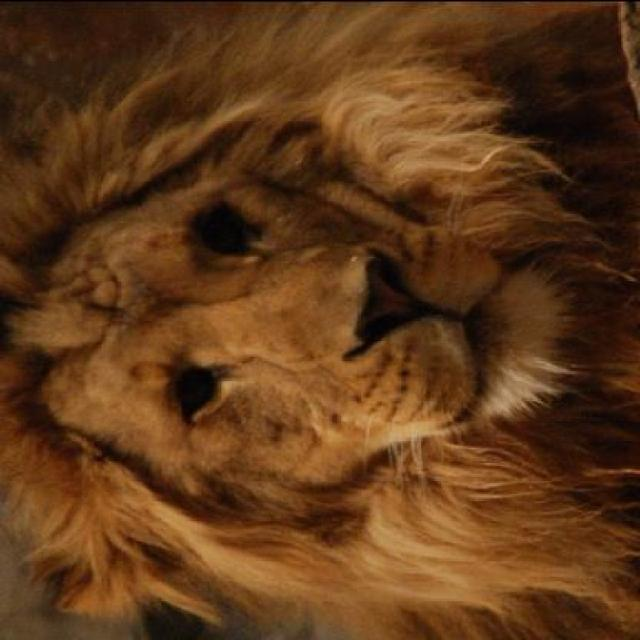Lion: (6, 14, 639, 618)
